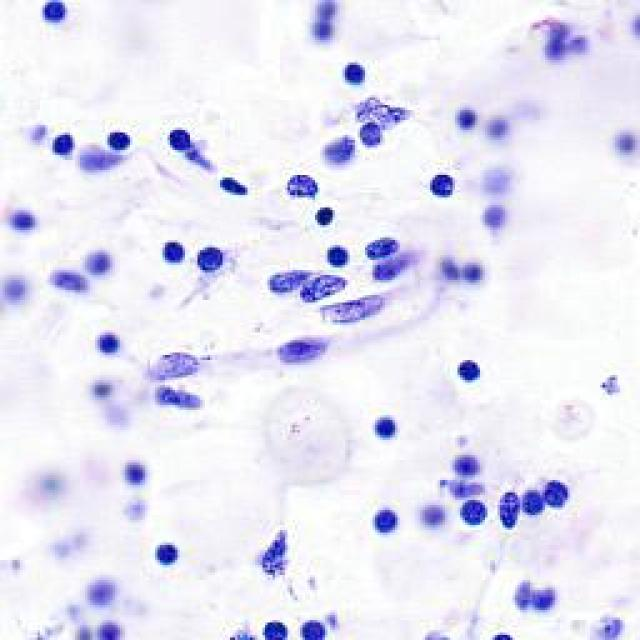cell: (239, 517, 307, 576), (253, 337, 342, 364), (146, 348, 222, 378), (514, 572, 566, 609), (317, 302, 385, 327), (363, 407, 408, 440), (300, 0, 342, 35), (282, 165, 326, 198), (456, 348, 490, 390), (449, 258, 496, 287), (494, 480, 518, 536), (148, 540, 190, 572), (48, 269, 92, 298), (369, 501, 399, 541), (200, 238, 230, 278), (150, 388, 210, 408), (420, 175, 464, 202), (452, 440, 480, 480), (96, 327, 130, 359), (336, 64, 381, 88), (86, 240, 120, 271), (300, 203, 345, 226), (216, 170, 252, 198), (585, 615, 625, 640), (609, 127, 639, 159), (167, 122, 195, 156), (357, 118, 391, 146), (448, 104, 484, 130), (74, 584, 120, 604), (320, 145, 367, 164), (114, 501, 156, 522), (525, 481, 544, 527), (9, 205, 38, 235), (162, 237, 192, 266), (419, 498, 446, 530), (458, 498, 482, 534), (363, 237, 408, 256), (483, 164, 521, 186), (313, 273, 349, 296), (260, 616, 292, 640), (596, 372, 628, 396), (538, 18, 576, 38), (531, 42, 570, 60), (268, 271, 301, 292), (482, 202, 512, 225), (7, 274, 30, 304), (38, 4, 80, 20), (51, 132, 78, 156), (318, 244, 352, 263), (552, 474, 568, 514), (105, 128, 135, 149), (88, 382, 120, 401), (41, 472, 65, 496), (123, 463, 153, 482), (96, 622, 124, 640), (302, 617, 326, 637), (491, 630, 516, 640)
